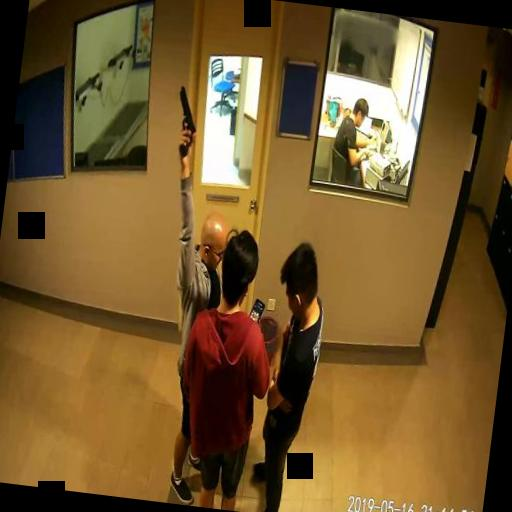Handgun: (172, 86, 201, 158)
